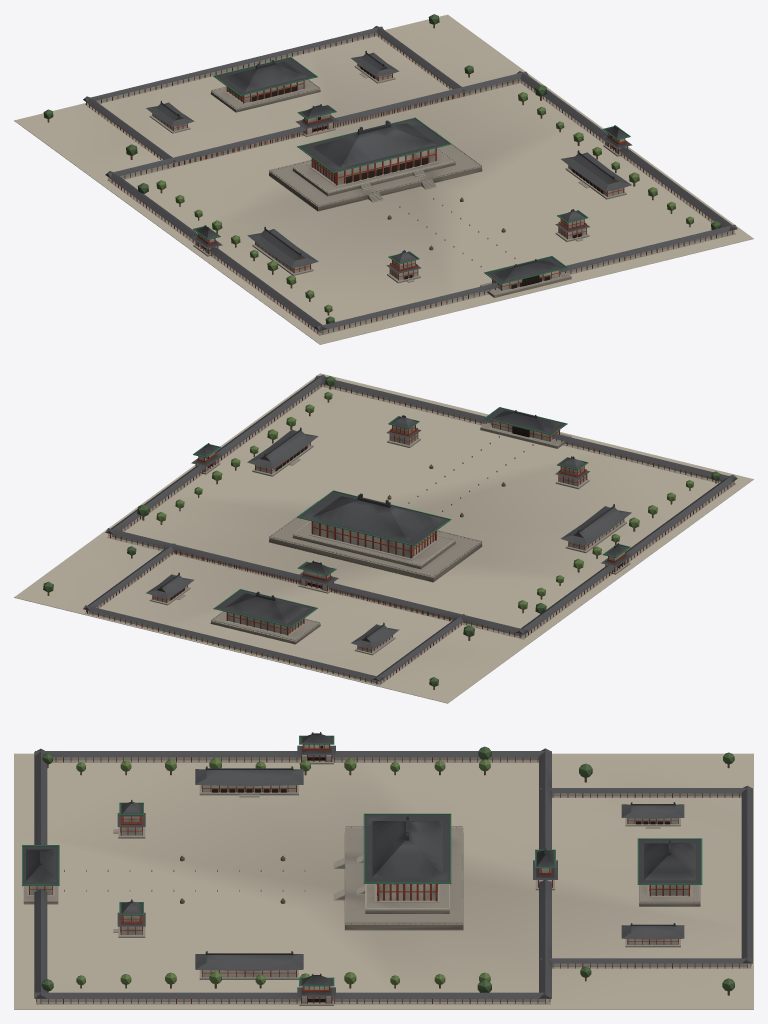
The model's file is taiji-palace.glb.
3 renders of one model, top to bottom at view 1: azimuth 30°, elevation 25°; view 2: azimuth 150°, elevation 25°; view 3: azimuth 270°, elevation 25°, orthographic. The views are drawn at different scales.
Visible parts, largest first — view 1: p0_court, p2_trees, p1_halls; view 2: p0_court, p2_trees, p1_halls; view 3: p0_court, p2_trees, p1_halls.
Part boxes in pixels (x1,y1,x2,y2): p0_court: (14, 14, 753, 344); p2_trees: (43, 14, 720, 323); p1_halls: (149, 64, 627, 292); p0_court: (14, 373, 753, 703); p2_trees: (43, 376, 720, 689); p1_halls: (149, 421, 630, 655); p0_court: (14, 748, 753, 1009); p2_trees: (22, 732, 734, 996); p1_halls: (26, 744, 692, 1005).
Bounding box in the file's own units: 360 × 38.74 × 440.
